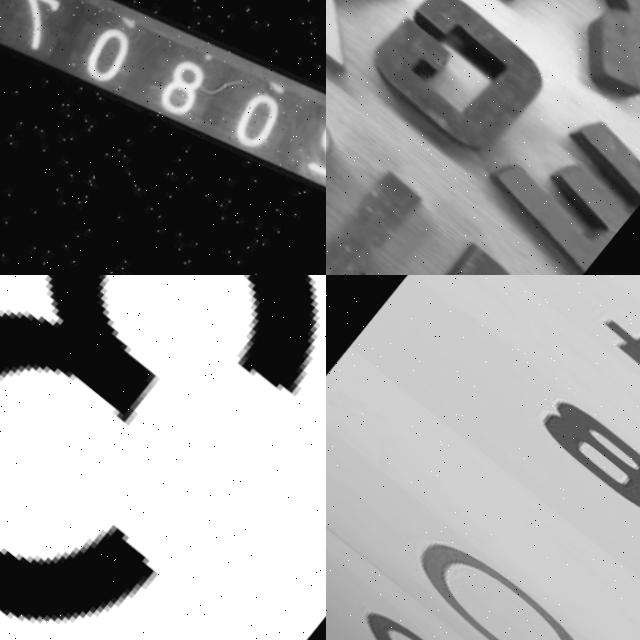0: (389, 508, 633, 640), (67, 13, 150, 98), (217, 80, 299, 165)
2: (290, 109, 326, 197)
3: (0, 275, 326, 640)
4: (555, 275, 640, 475)
7: (0, 0, 80, 64)
8: (507, 370, 640, 553), (140, 48, 224, 133)
9: (326, 571, 536, 640)
E: (468, 92, 640, 275)
G: (345, 0, 559, 179)
K: (524, 0, 640, 152)
U: (326, 149, 525, 275)
X: (326, 0, 426, 94)
